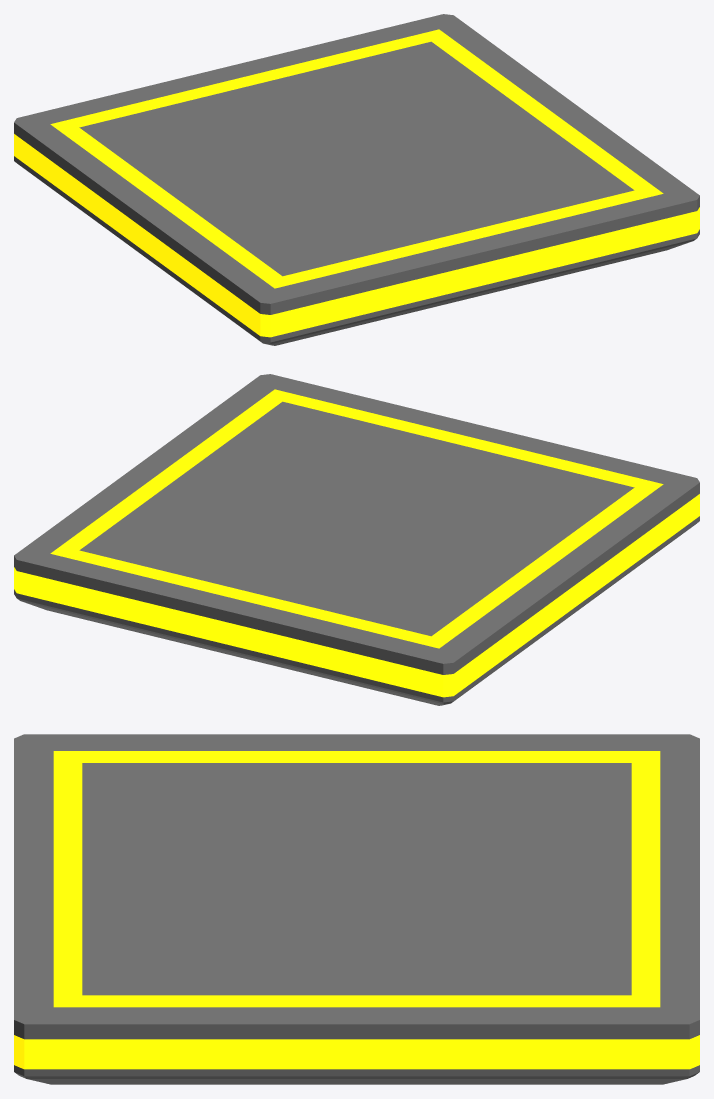
Rendered from YPlatform.fbx.
3 views of the same model, one above another, from view 1: azimuth 30°, elevation 25°; view 2: azimuth 150°, elevation 25°; view 3: azimuth 270°, elevation 25° (orthographic). The views are drawn at different scales.
Parts seen in each view (by area): view 1: Cube; view 2: Cube; view 3: Cube.
Part boxes in pixels (box(x1,y1,x2,y2)): Cube: box(14, 14, 699, 345); Cube: box(14, 374, 699, 705); Cube: box(14, 734, 699, 1084).
Size of the model in its own units: 858 by 128 by 858.
